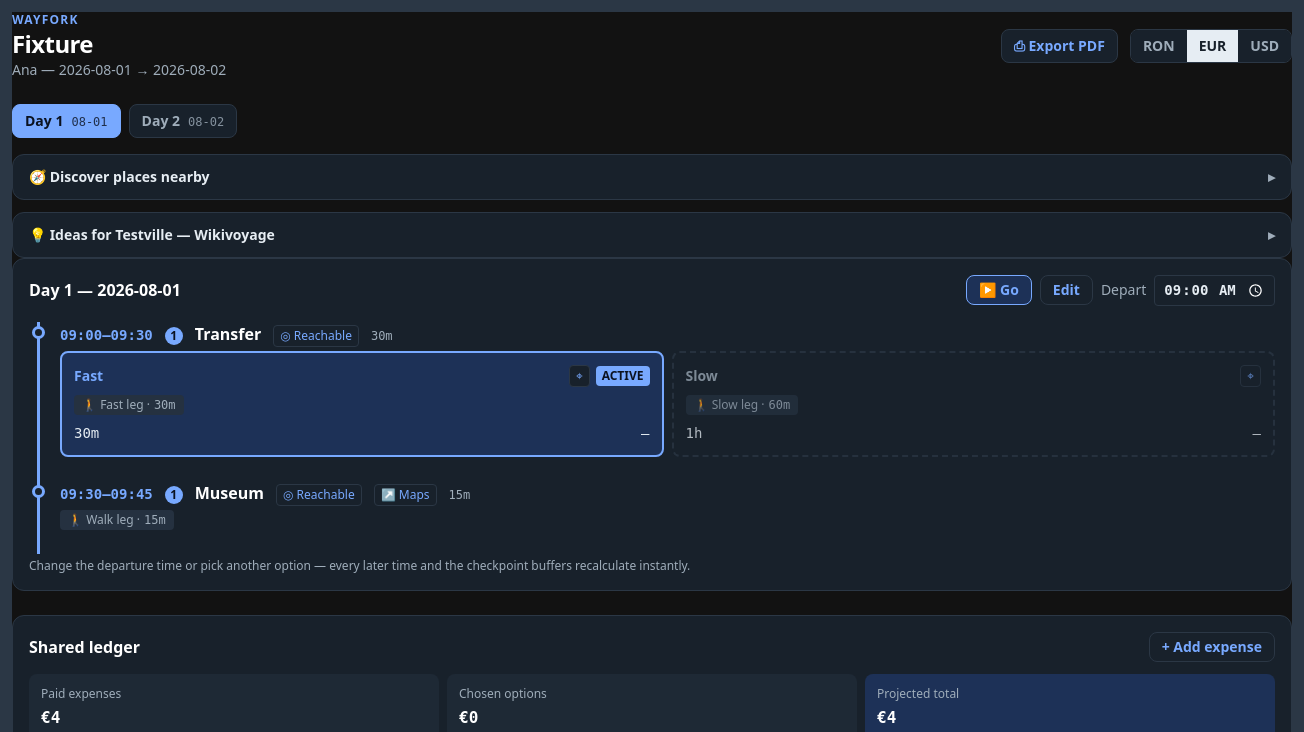
Test: TripView › switches days via the tabs
Check: the text "Museum" is shown, box [195,481,264,505]
Click the button "Day 208-02" at (183, 121), box [129,104,237,138]
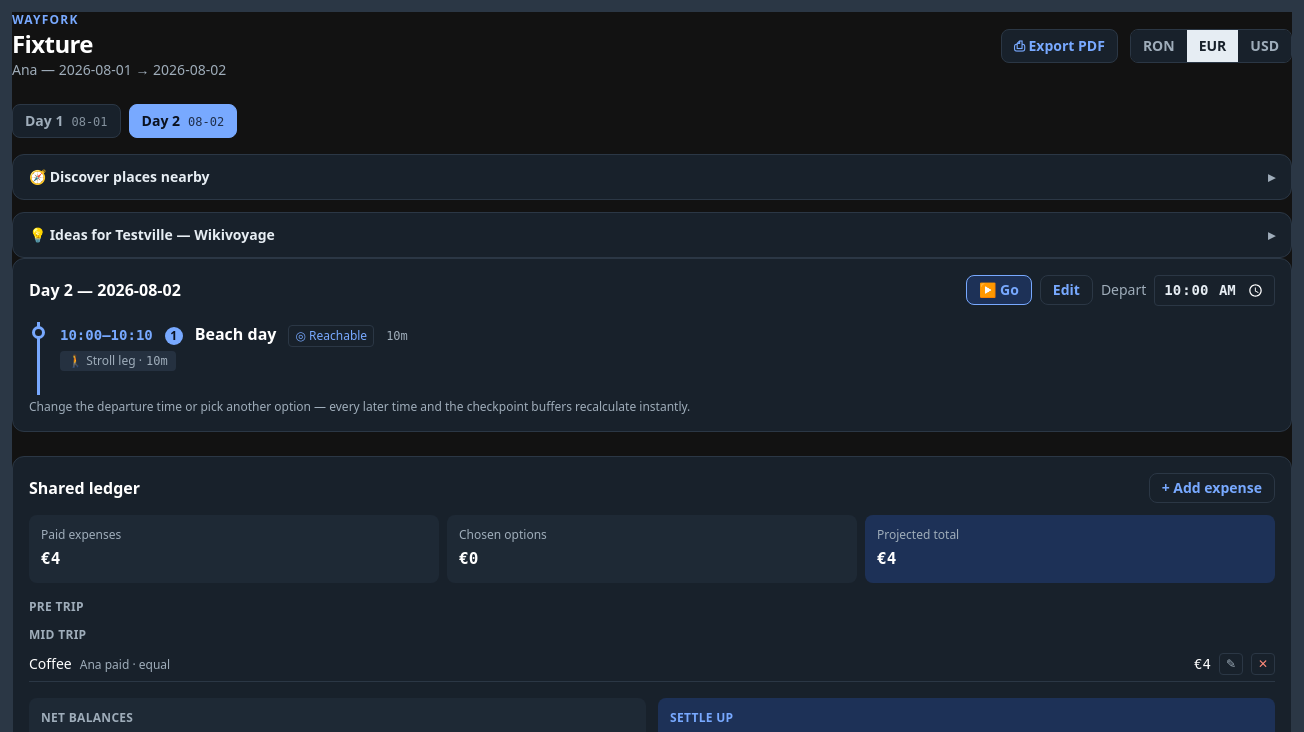
Check: the text "Beach day" is shown, box [195,322,276,346]
Check: the text "Museum" is gone
